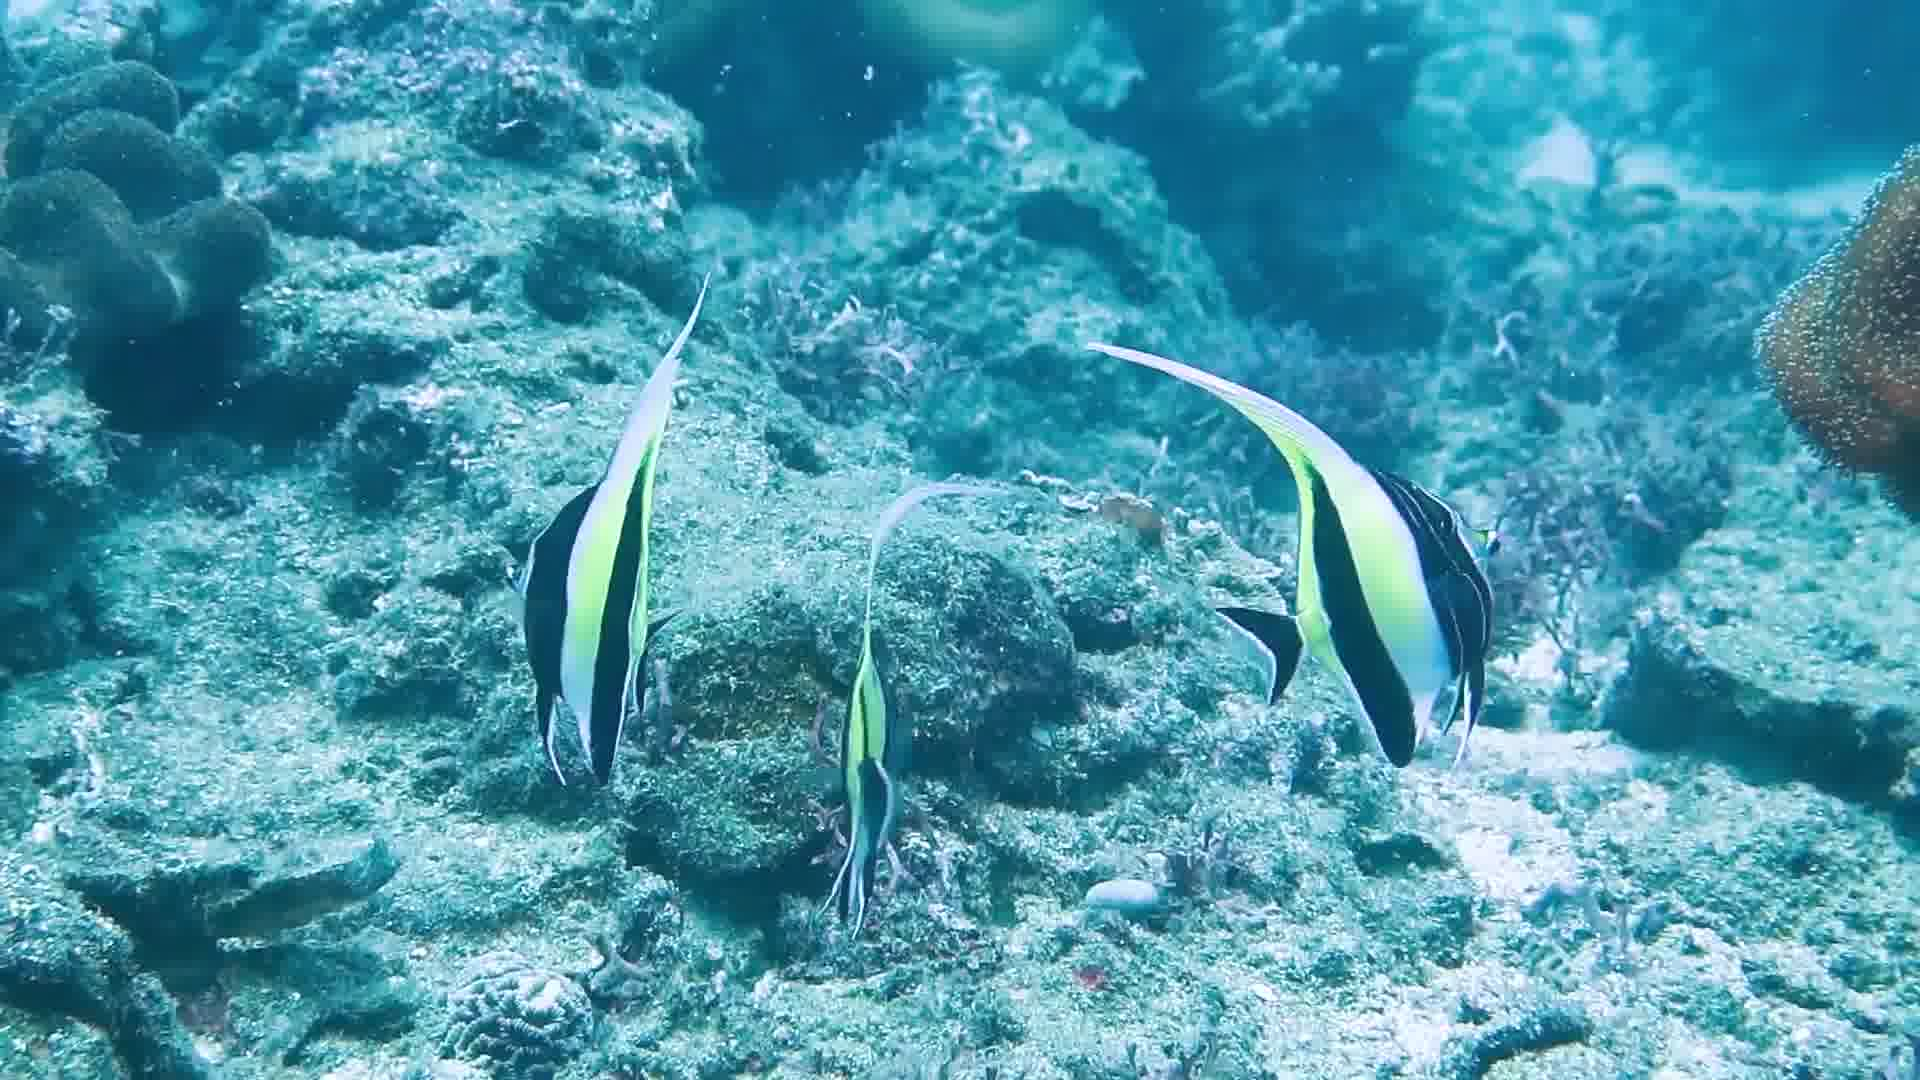Zanclus cornutus: (1213, 407, 1526, 764), (509, 411, 713, 798), (802, 603, 928, 932)
